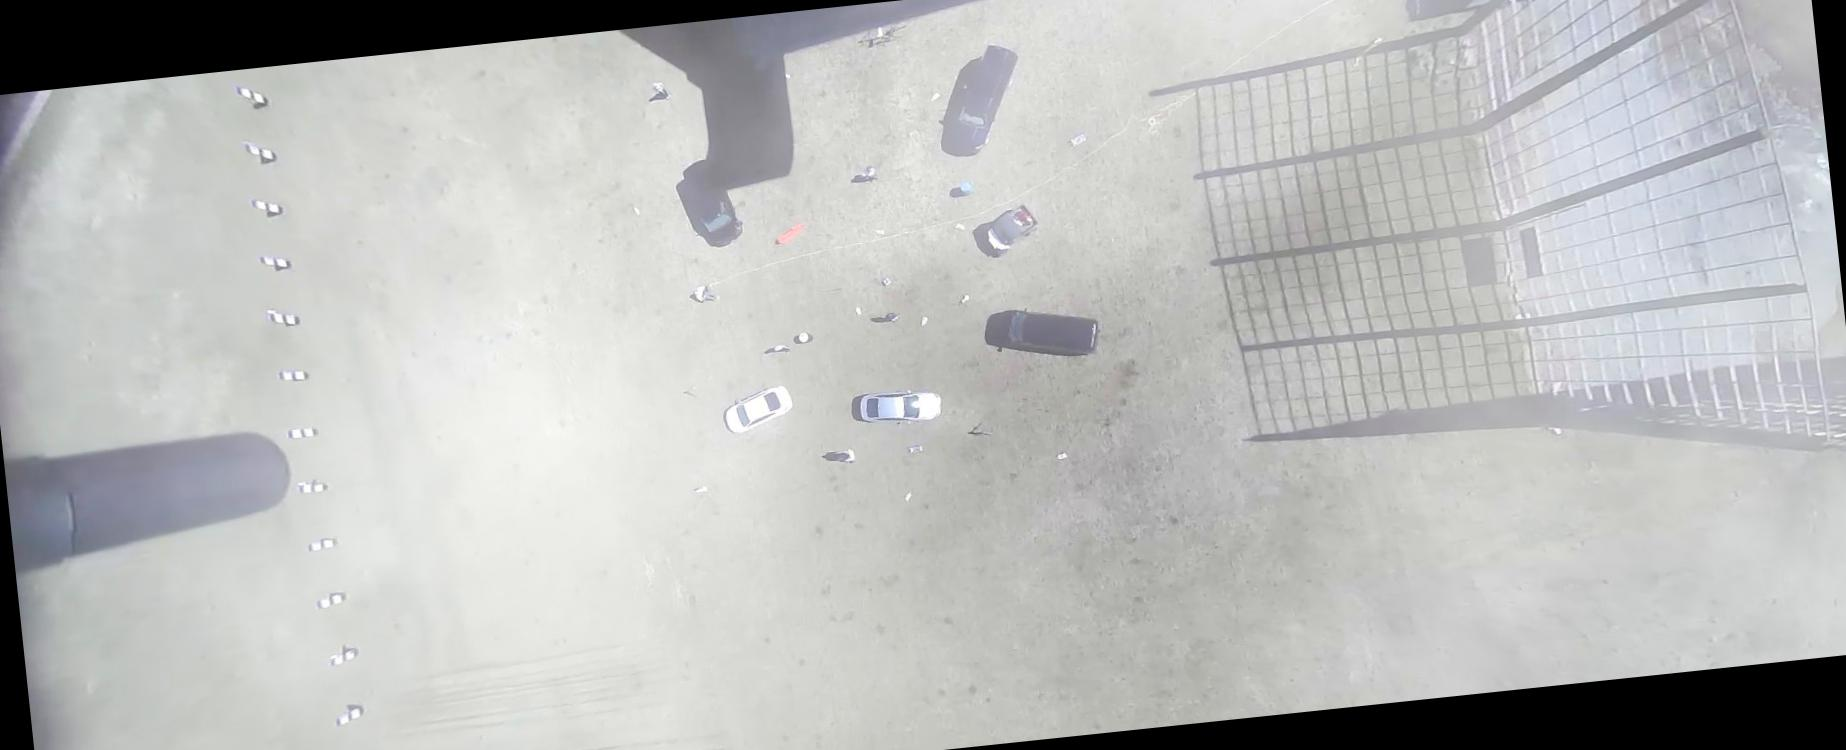vehicle: (939, 40, 1029, 157), (994, 298, 1103, 365), (682, 157, 746, 251), (722, 383, 797, 436), (858, 385, 945, 430), (980, 201, 1043, 259)
